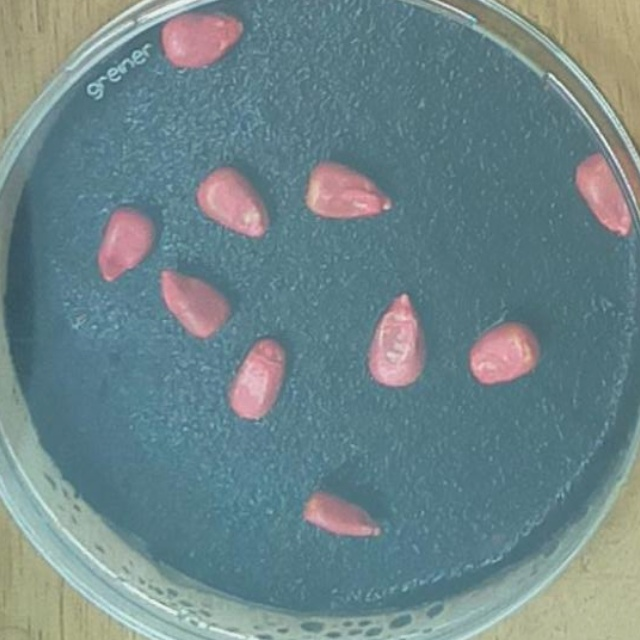Zea mays: (360, 279, 435, 393), (297, 148, 402, 229), (188, 156, 277, 246), (150, 259, 240, 347), (220, 323, 293, 428), (151, 0, 251, 76), (90, 195, 166, 288), (568, 145, 639, 241), (462, 311, 547, 391), (294, 479, 391, 547)
